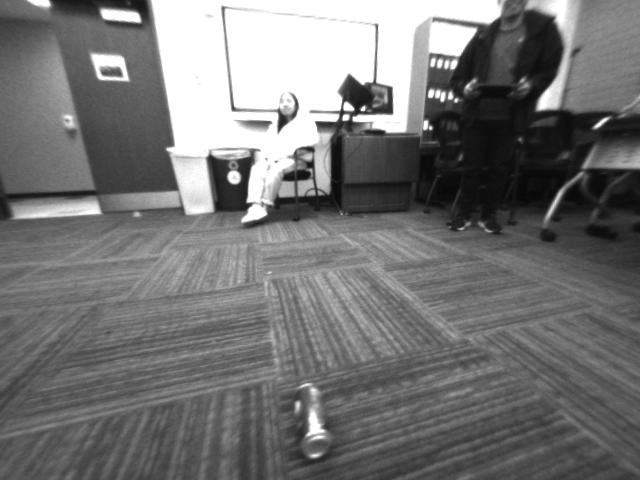can: (285, 378, 344, 462)
